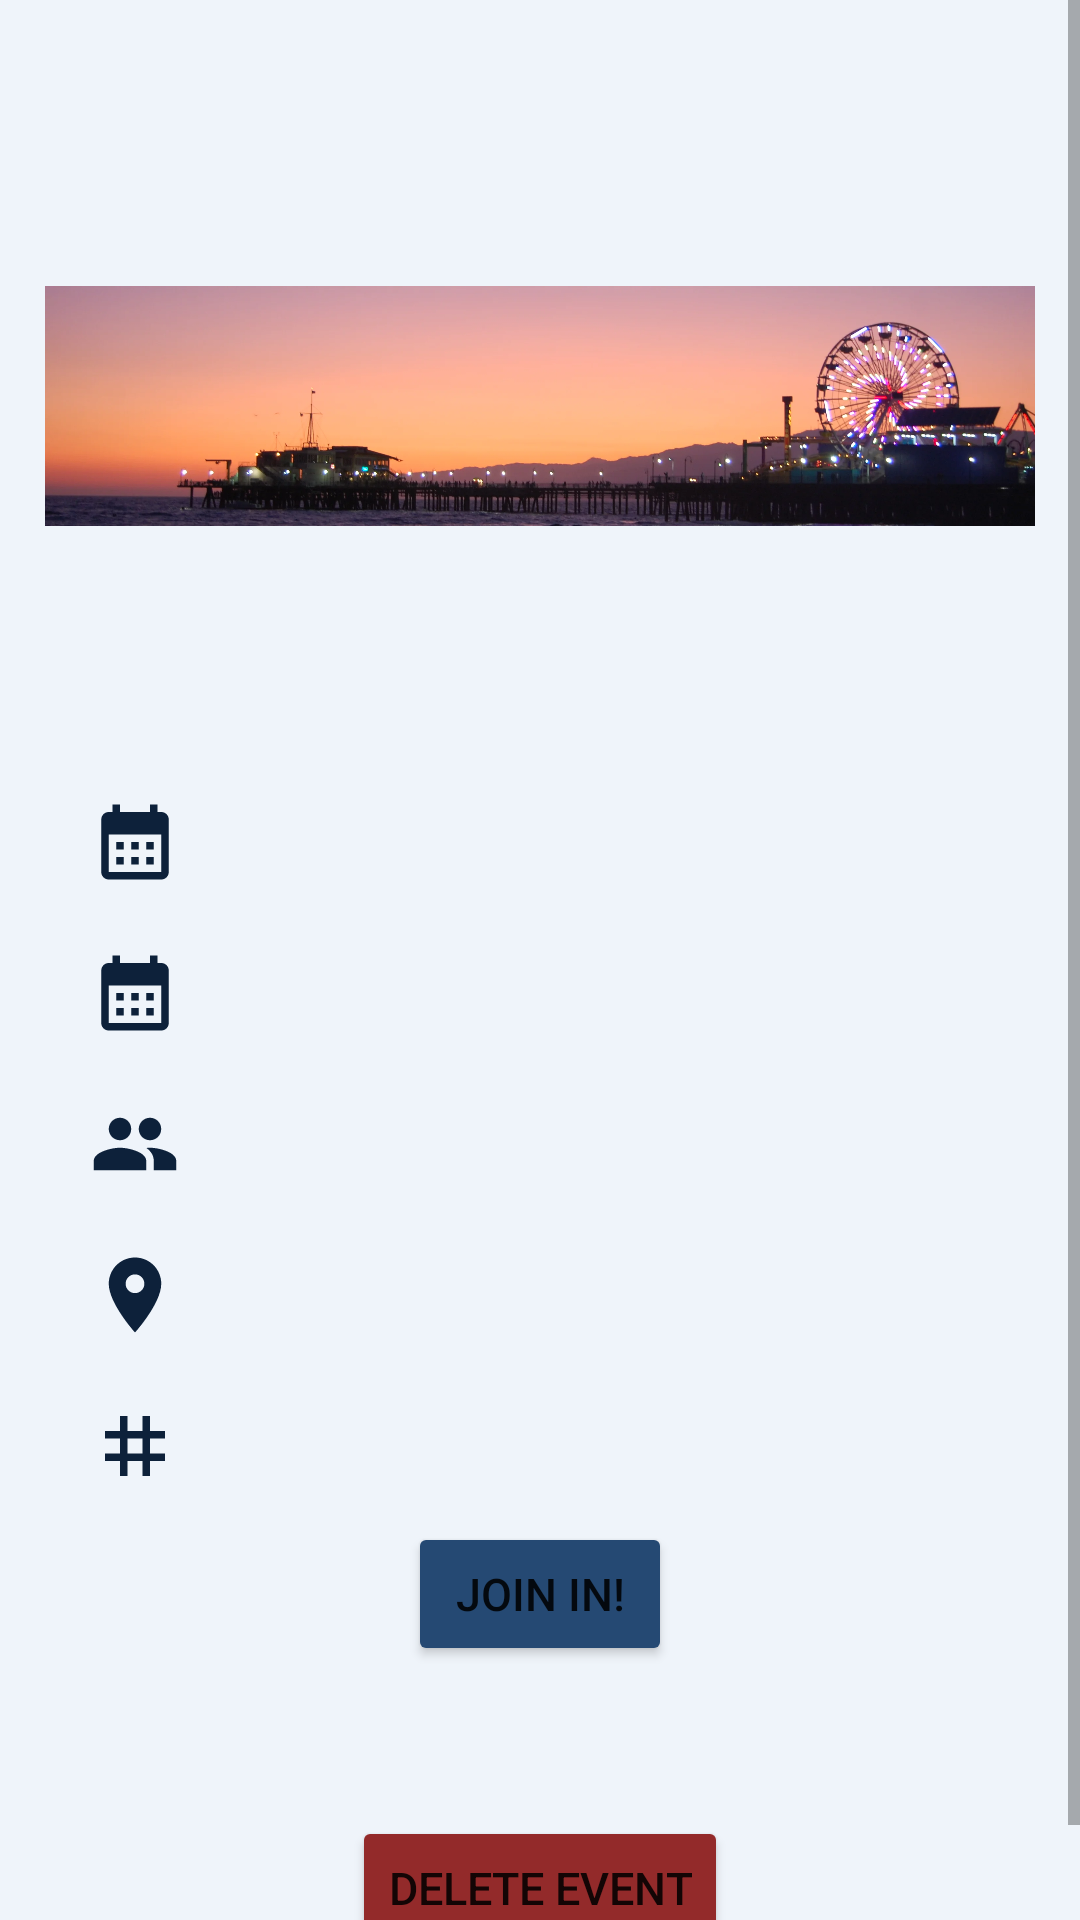

Point at icon controls on the screen. Image size 1080*1920, points as (x=x, y=y).
calendar: (x=135, y=842), (x=135, y=993)
location: (x=135, y=1294)
participants: (x=135, y=1144)
tag: (x=135, y=1446)
